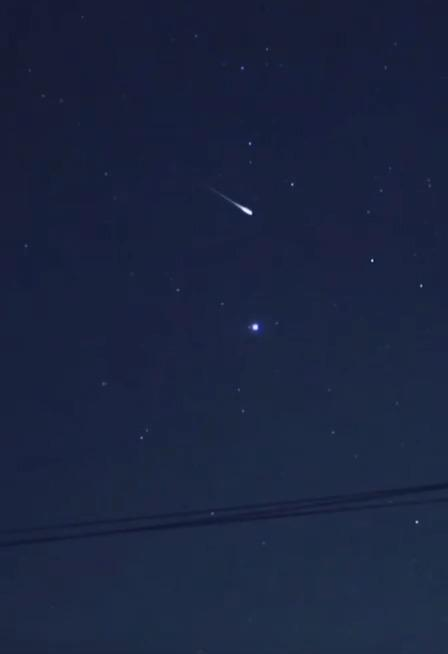meteorite: (193, 180, 268, 226)
